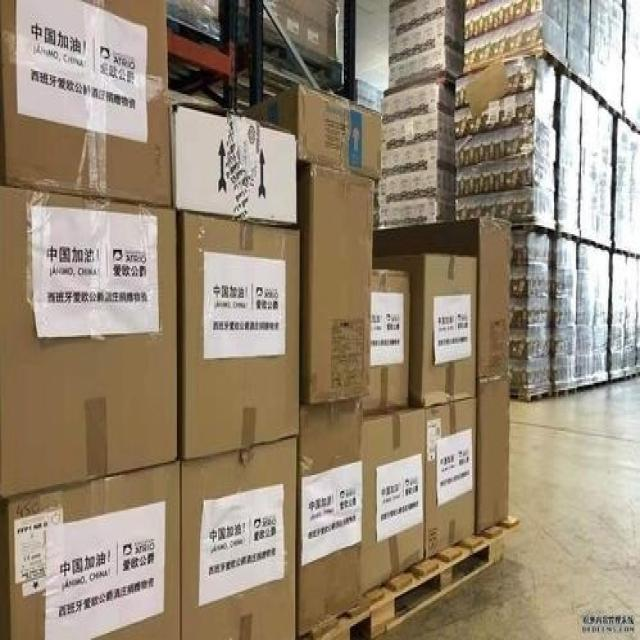box: (0, 186, 177, 499), (0, 0, 171, 207), (8, 460, 180, 638), (182, 210, 300, 459), (181, 437, 296, 638), (374, 217, 511, 378), (298, 160, 375, 404), (297, 395, 363, 637), (373, 254, 476, 408), (169, 101, 297, 223), (241, 83, 381, 180), (361, 405, 424, 595), (425, 397, 476, 559), (363, 269, 411, 416), (477, 374, 510, 533)
